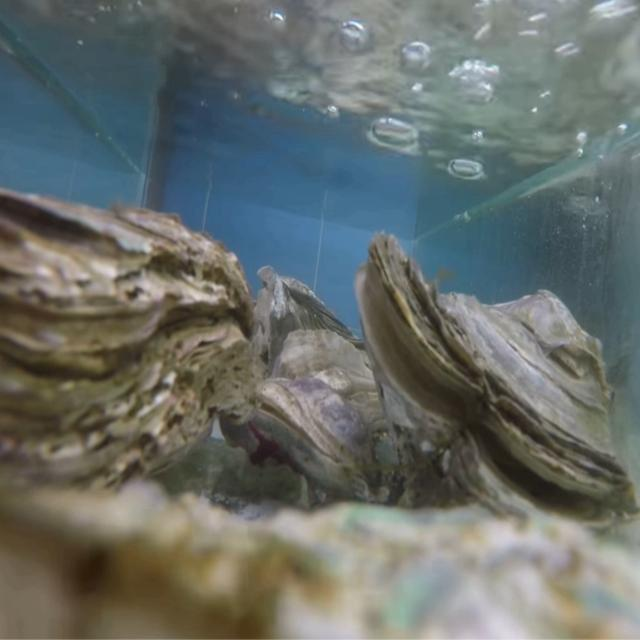Oyster-Closed: (0, 188, 256, 518), (252, 329, 409, 510)
Oyster-Indeterminate: (0, 481, 640, 640), (254, 266, 370, 383)
Oyster-Open: (356, 232, 640, 540)
